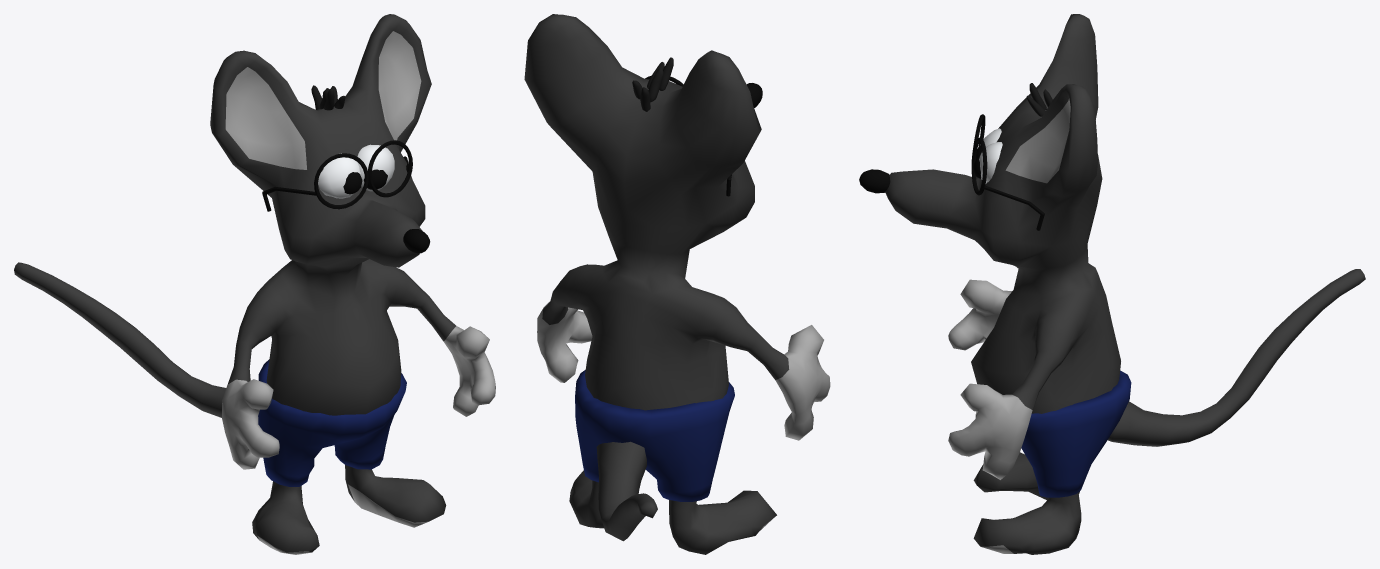
File: MOUSE_GREY_NERD.fbx
3 views of the same model, side by side, from view 1: azimuth 30°, elevation 25°; view 2: azimuth 150°, elevation 25°; view 3: azimuth 270°, elevation 25° (orthographic). The views are drawn at different scales.
Visible parts, largest first — view 1: MOUSE_GREY_NERD_001; view 2: MOUSE_GREY_NERD_001; view 3: MOUSE_GREY_NERD_001.
Boxes of the visible parts, x1=… form: MOUSE_GREY_NERD_001: x1=14, y1=14, x2=495, y2=554; MOUSE_GREY_NERD_001: x1=524, y1=14, x2=830, y2=554; MOUSE_GREY_NERD_001: x1=859, y1=14, x2=1365, y2=554.
Size of the model in its own units: 0.2236 by 0.3566 by 0.348.
